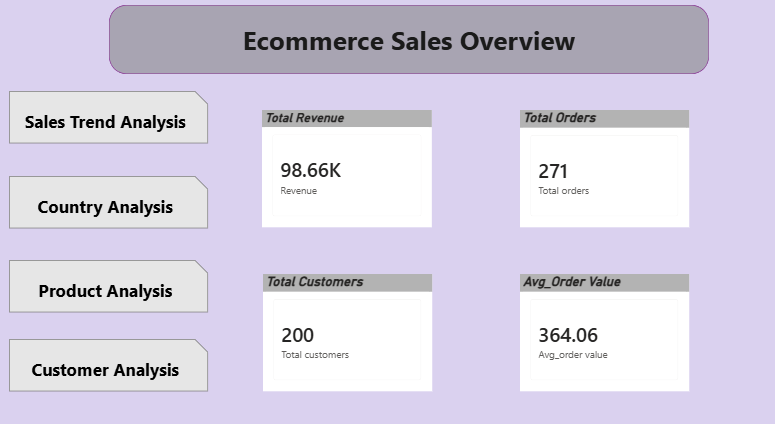

This screenshot's page, from the dashboard's own definition file:
{"tool":"powerbi","page":{"name":"Overview","canvas":[1280,720],"ordinal":0},"visuals":[{"type":"shape","box":[188.2,22.9,982.1,112.9],"z":0},{"type":"shape","box":[25.2,162.9,325.9,85.7],"z":1000},{"type":"shape","box":[25.2,302.4,325.9,85.7],"z":2000},{"type":"shape","box":[25.2,440.1,325.9,85.7],"z":3000},{"type":"shape","box":[25.2,569.4,325.9,85.7],"z":4000},{"type":"cardVisual","title":"Total Revenue","fields":{"Data":["ecommerce_analysis online_retail_sales.Revenue"]},"box":[438.7,194.8,278.3,191.5],"z":5000},{"type":"cardVisual","title":"Total Orders","fields":{"Data":["ecommerce_analysis online_retail_sales.Total orders"]},"box":[861,194.8,276.6,191.5],"z":6000},{"type":"cardVisual","title":"Total Customers","fields":{"Data":["ecommerce_analysis online_retail_sales.Total customers"]},"box":[440.3,463.2,276.6,191.5],"z":8000},{"type":"cardVisual","title":"Avg_Order Value","fields":{"Data":["ecommerce_analysis online_retail_sales.Avg_order value"]},"box":[861,463.2,276.6,191.5],"z":10000}]}

Visuals, with their boxes in screenshot pixels (x1, y1, x2, y2), scaled from the page's 1280x720 canvas onto the 775x424 screenshot:
shape: {"left": 114, "top": 13, "right": 709, "bottom": 80}
shape: {"left": 15, "top": 96, "right": 213, "bottom": 146}
shape: {"left": 15, "top": 178, "right": 213, "bottom": 229}
shape: {"left": 15, "top": 259, "right": 213, "bottom": 310}
shape: {"left": 15, "top": 335, "right": 213, "bottom": 386}
"Total Revenue" cardVisual: {"left": 266, "top": 115, "right": 434, "bottom": 227}
"Total Orders" cardVisual: {"left": 521, "top": 115, "right": 689, "bottom": 227}
"Total Customers" cardVisual: {"left": 267, "top": 273, "right": 434, "bottom": 386}
"Avg_Order Value" cardVisual: {"left": 521, "top": 273, "right": 689, "bottom": 386}
